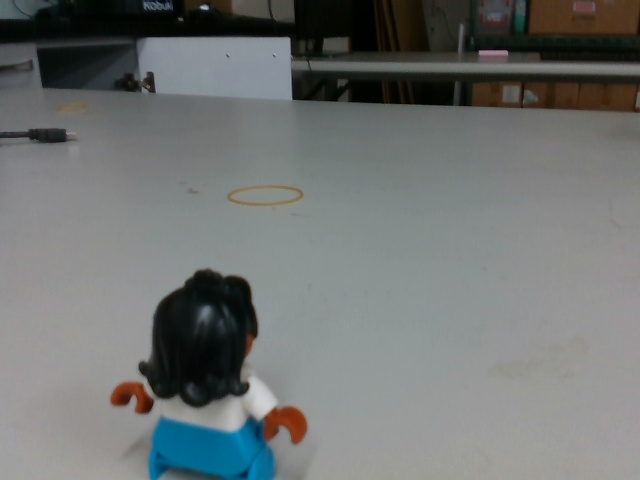people: (111, 266, 311, 480)
